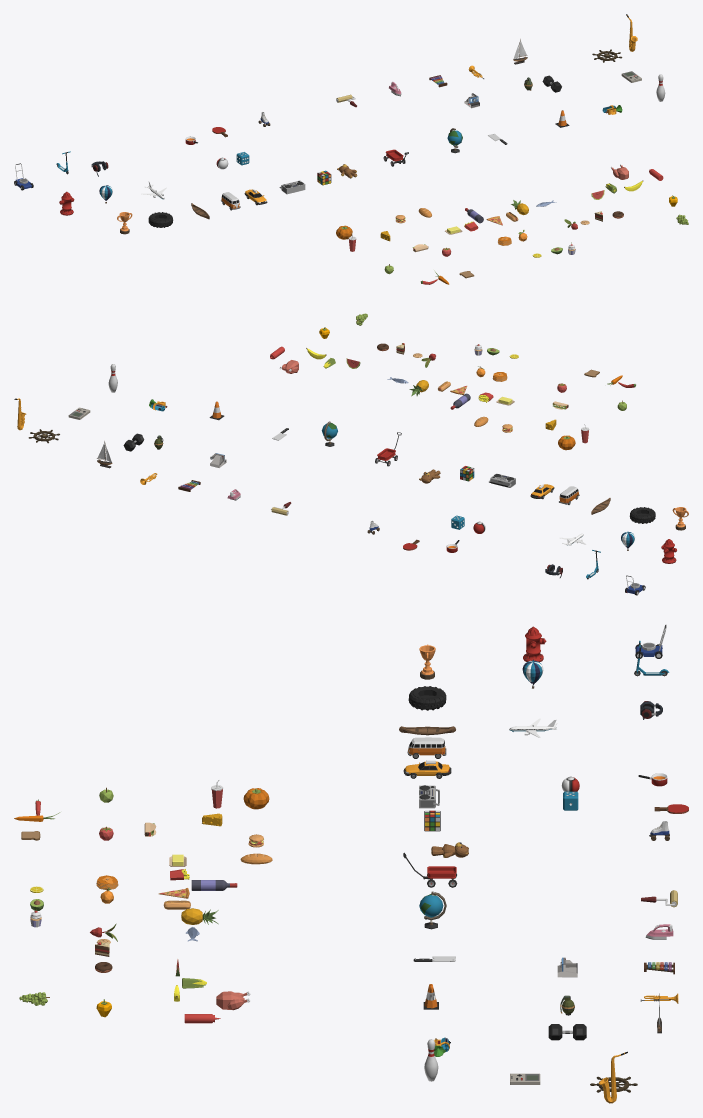
The model's file is items.glb.
The picture shows the model from 3 angles, top to bottom: view 1: azimuth 30°, elevation 25°; view 2: azimuth 150°, elevation 25°; view 3: azimuth 270°, elevation 25°; orthographic projection. The views are drawn at different scales.
Visible parts, largest first — view 1: no part large enough to name; view 2: no part large enough to name; view 3: Tire, Bus.
Part boxes in pixels (<box>): Tire: <box>408,686,446,710</box>; Bus: <box>407,737,446,758</box>.
Bounding box in the file's own units: 8.59 × 0.5317 × 5.41.
Materials: 3 (3 with a texture image).
